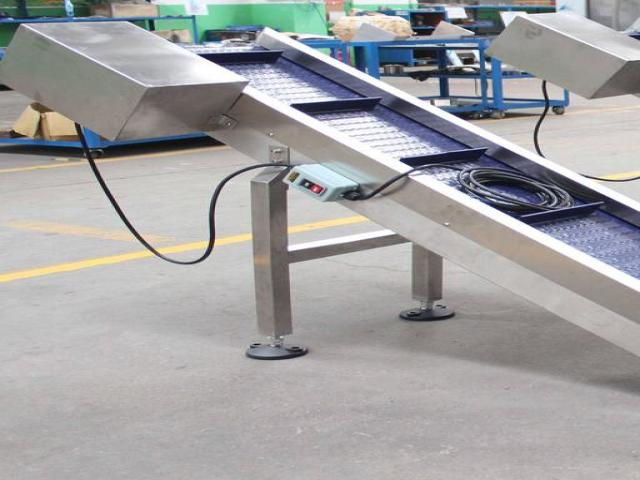conveyor: (0, 18, 639, 382)
